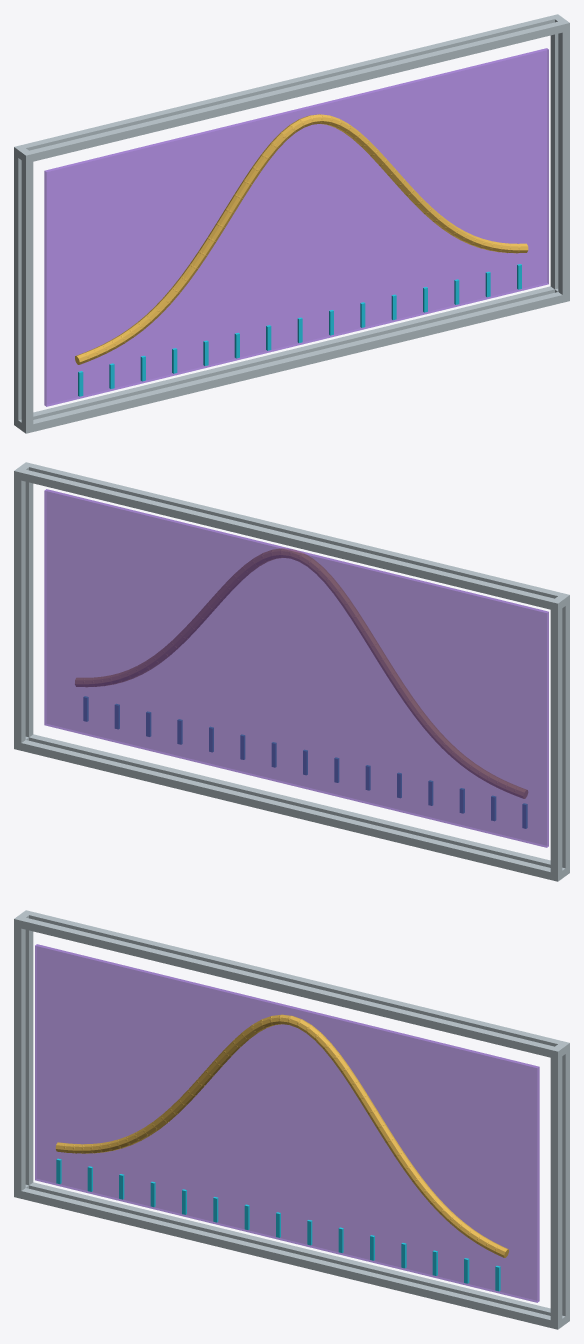
Rendered from 27_L75_HolographicDopantDepthProfile.fbx.
The picture shows the model from 3 angles, top to bottom: view 1: azimuth 30°, elevation 25°; view 2: azimuth 150°, elevation 25°; view 3: azimuth 330°, elevation 25°; orthographic projection.
Visible parts, largest first — view 1: HolographicDopantDepthProfile_Part_0012, HolographicDopantDepthProfile_Part_0009, HolographicDopantDepthProfile_Part_0005, HolographicDopantDepthProfile_Part_0008, HolographicDopantDepthProfile_Part_0004, HolographicDopantDepthProfile_Part_0001, HolographicDopantDepthProfile_Part_0003, HolographicDopantDepthProfile_Part_0002, HolographicDopantDepthProfile_Part_0000; view 2: HolographicDopantDepthProfile_Part_0012, HolographicDopantDepthProfile_Part_0008, HolographicDopantDepthProfile_Part_0004, HolographicDopantDepthProfile_Part_0009, HolographicDopantDepthProfile_Part_0005, HolographicDopantDepthProfile_Part_0000, HolographicDopantDepthProfile_Part_0002, HolographicDopantDepthProfile_Part_0003, HolographicDopantDepthProfile_Part_0001; view 3: HolographicDopantDepthProfile_Part_0012, HolographicDopantDepthProfile_Part_0009, HolographicDopantDepthProfile_Part_0005, HolographicDopantDepthProfile_Part_0008, HolographicDopantDepthProfile_Part_0004, HolographicDopantDepthProfile_Part_0003, HolographicDopantDepthProfile_Part_0001, HolographicDopantDepthProfile_Part_0000, HolographicDopantDepthProfile_Part_0002.
Boxes of the visible parts, bbox=[...] form: HolographicDopantDepthProfile_Part_0012: bbox=[44, 48, 548, 406]; HolographicDopantDepthProfile_Part_0009: bbox=[22, 20, 569, 163]; HolographicDopantDepthProfile_Part_0005: bbox=[22, 292, 569, 433]; HolographicDopantDepthProfile_Part_0008: bbox=[14, 14, 560, 157]; HolographicDopantDepthProfile_Part_0004: bbox=[14, 286, 554, 426]; HolographicDopantDepthProfile_Part_0001: bbox=[21, 151, 33, 433]; HolographicDopantDepthProfile_Part_0003: bbox=[558, 20, 569, 302]; HolographicDopantDepthProfile_Part_0002: bbox=[550, 14, 561, 289]; HolographicDopantDepthProfile_Part_0000: bbox=[14, 145, 23, 427]; HolographicDopantDepthProfile_Part_0012: bbox=[44, 489, 548, 847]; HolographicDopantDepthProfile_Part_0008: bbox=[14, 468, 562, 610]; HolographicDopantDepthProfile_Part_0004: bbox=[14, 740, 561, 880]; HolographicDopantDepthProfile_Part_0009: bbox=[24, 462, 569, 601]; HolographicDopantDepthProfile_Part_0005: bbox=[29, 734, 568, 874]; HolographicDopantDepthProfile_Part_0000: bbox=[550, 599, 562, 881]; HolographicDopantDepthProfile_Part_0002: bbox=[14, 468, 25, 750]; HolographicDopantDepthProfile_Part_0003: bbox=[22, 462, 33, 737]; HolographicDopantDepthProfile_Part_0001: bbox=[559, 593, 569, 875]; HolographicDopantDepthProfile_Part_0012: bbox=[35, 944, 539, 1302]; HolographicDopantDepthProfile_Part_0009: bbox=[14, 916, 562, 1058]; HolographicDopantDepthProfile_Part_0005: bbox=[14, 1188, 562, 1329]; HolographicDopantDepthProfile_Part_0008: bbox=[23, 910, 568, 1053]; HolographicDopantDepthProfile_Part_0004: bbox=[29, 1182, 569, 1323]; HolographicDopantDepthProfile_Part_0003: bbox=[550, 1047, 562, 1329]; HolographicDopantDepthProfile_Part_0001: bbox=[14, 916, 25, 1198]; HolographicDopantDepthProfile_Part_0000: bbox=[22, 910, 33, 1185]; HolographicDopantDepthProfile_Part_0002: bbox=[559, 1041, 569, 1323].
Bounding box in the file's own units: 262 × 128 × 15.1.
